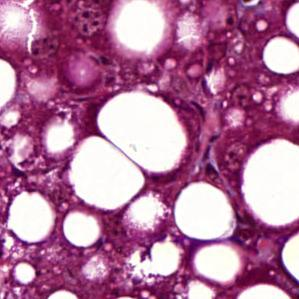steatosis: (93, 88, 187, 172), (175, 177, 235, 241)
